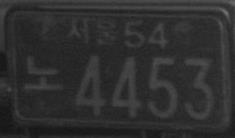3: (181, 56, 217, 121)
4: (110, 53, 144, 120), (72, 53, 107, 117), (147, 20, 170, 51)
5: (146, 55, 180, 120), (122, 17, 147, 49)
노: (23, 54, 65, 92)
서울_O: (66, 15, 119, 47)
